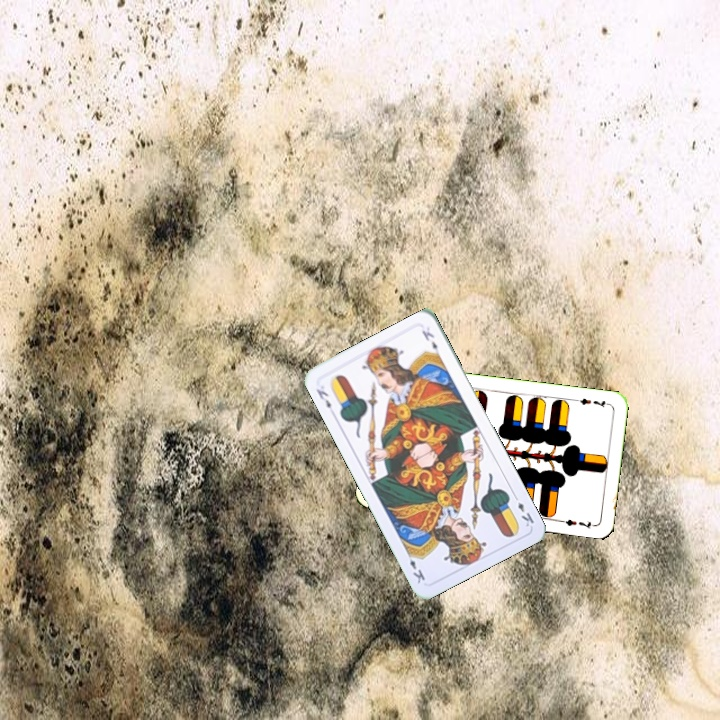E7: (572, 394, 612, 410)
EK: (509, 490, 536, 529), (312, 384, 333, 411)
